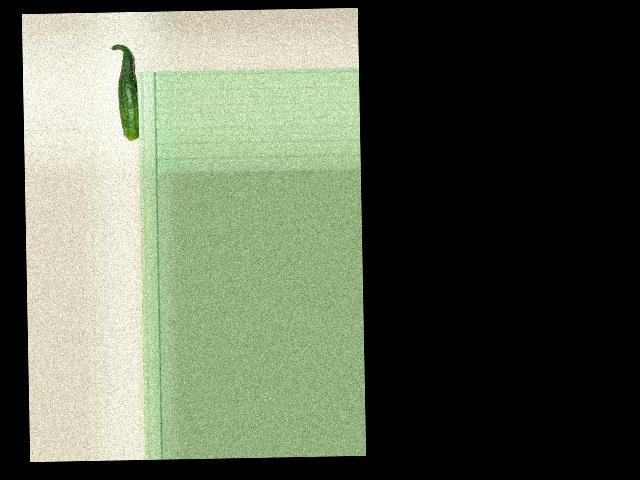cucumber: (111, 43, 139, 140)
